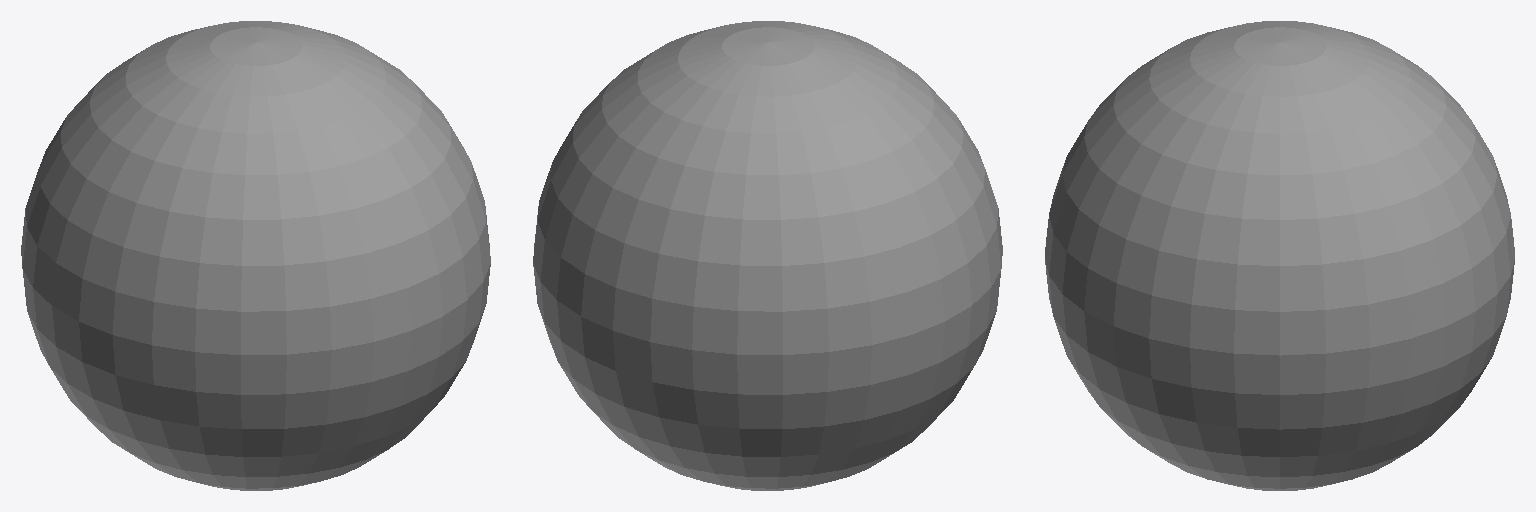
The model's file is pluto.obj.
The picture shows the model from 3 angles: view 1: azimuth 30°, elevation 25°; view 2: azimuth 150°, elevation 25°; view 3: azimuth 270°, elevation 25°; orthographic projection.
Parts seen in each view (by area): view 1: Sphere; view 2: Sphere; view 3: Sphere.
Part boxes in pixels (bbox=[...]): Sphere: bbox=[21, 21, 490, 490]; Sphere: bbox=[533, 21, 1002, 490]; Sphere: bbox=[1045, 21, 1514, 490].
Size of the model in its own units: 2.37 by 2.37 by 2.37.